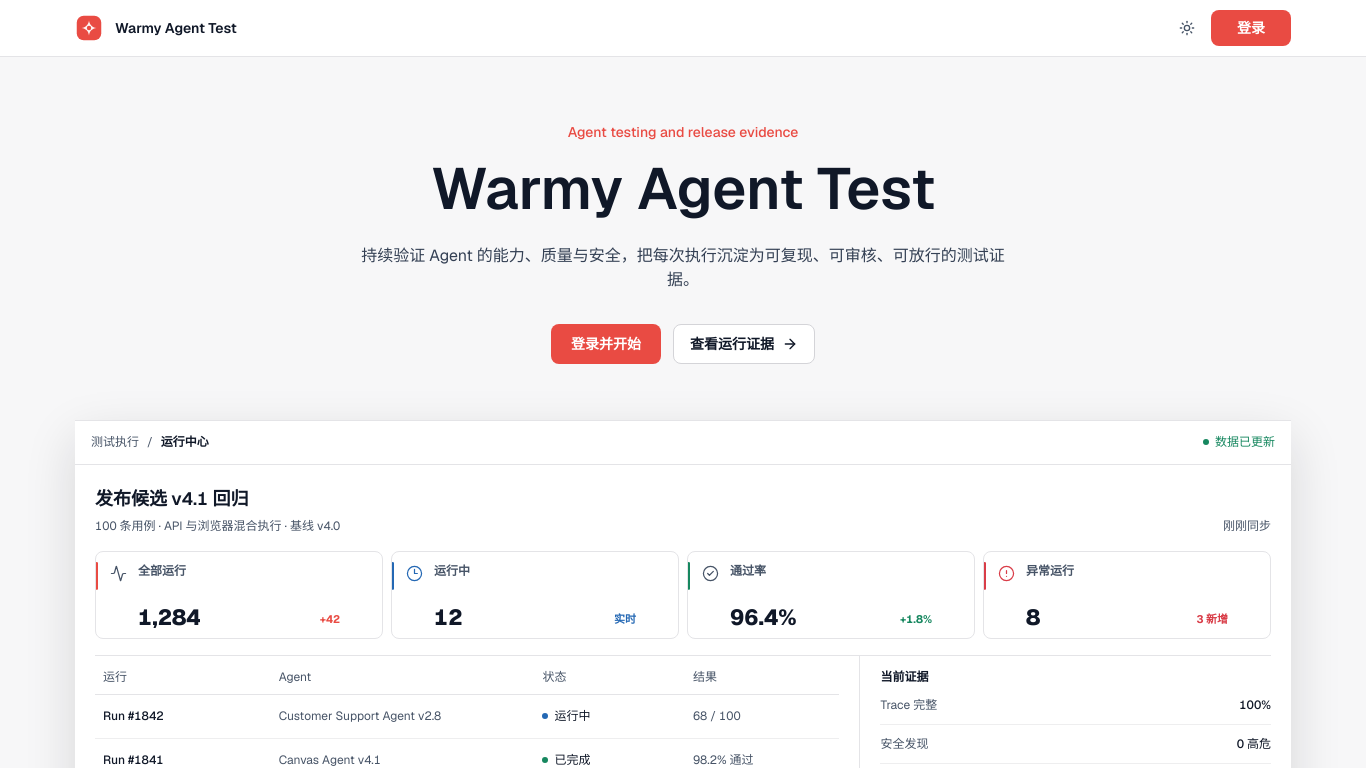
Test: LoginScreen › renders the product landing page and opens login dialog
This screenshot has width=1366, height=768.
Check: the heading "Warmy Agent Test" is shown, box [431,151,935,226]
Check: the text "持续验证 Agent 的能力、质量与安全，把每次执行沉淀为可复现、可审核、可放行的测试证据。" is shown, box [347,244,1019,292]
Click the button "登录" at (1251, 28), box [1211,10,1291,46]
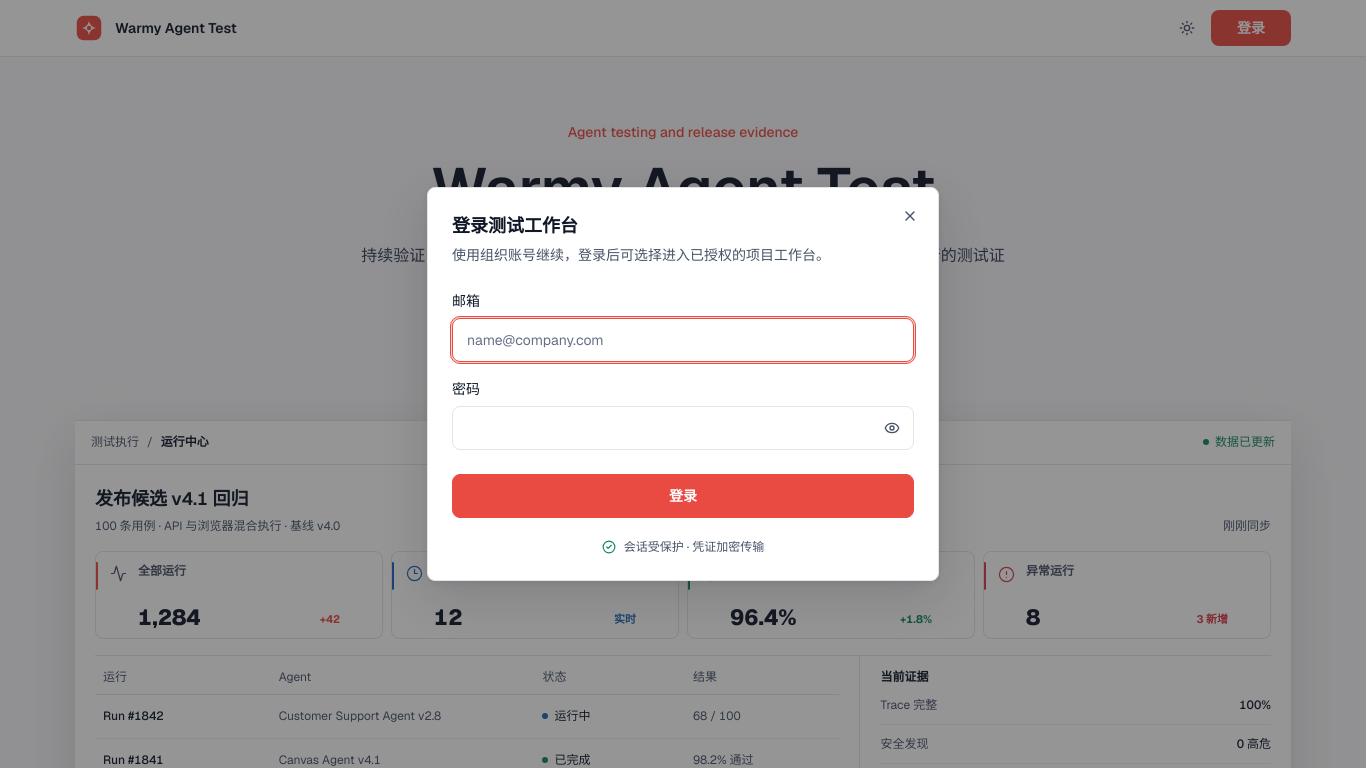
Check: the dialog is shown, box [427,187,939,581]
Check: the heading "登录测试工作台" is shown, box [452,214,578,237]
Check: the field labelled "邮箱" is shown, box [452,318,914,362]
